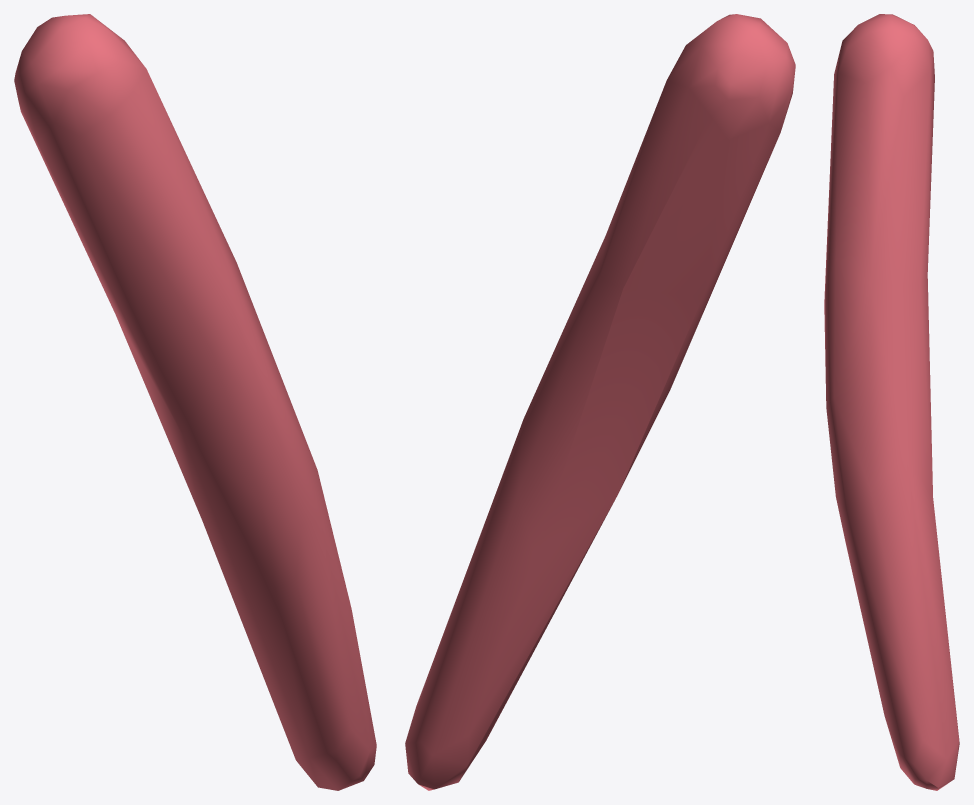
Rendered from fma9428_fj6127.glb.
The picture shows the model from 3 angles, left to right: view 1: azimuth 30°, elevation 25°; view 2: azimuth 150°, elevation 25°; view 3: azimuth 270°, elevation 25°; orthographic projection. The views are drawn at different scales.
Parts seen in each view (by area): view 1: FMA9428_FJ6127; view 2: FMA9428_FJ6127; view 3: FMA9428_FJ6127.
Boxes of the visible parts, bbox=[...] form: FMA9428_FJ6127: bbox=[14, 14, 376, 790]; FMA9428_FJ6127: bbox=[405, 14, 795, 790]; FMA9428_FJ6127: bbox=[824, 14, 959, 790].
Size of the model in its own units: 0.00867 by 0.019 by 0.00351.
